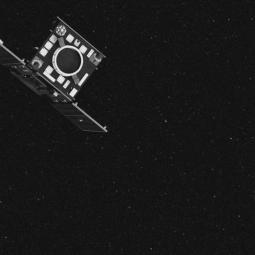proba_2: (0, 4, 140, 142)
